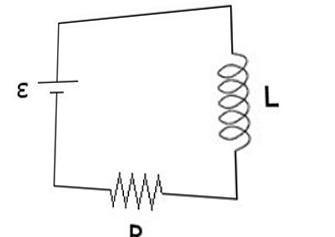resistor: (96, 168, 183, 213)
